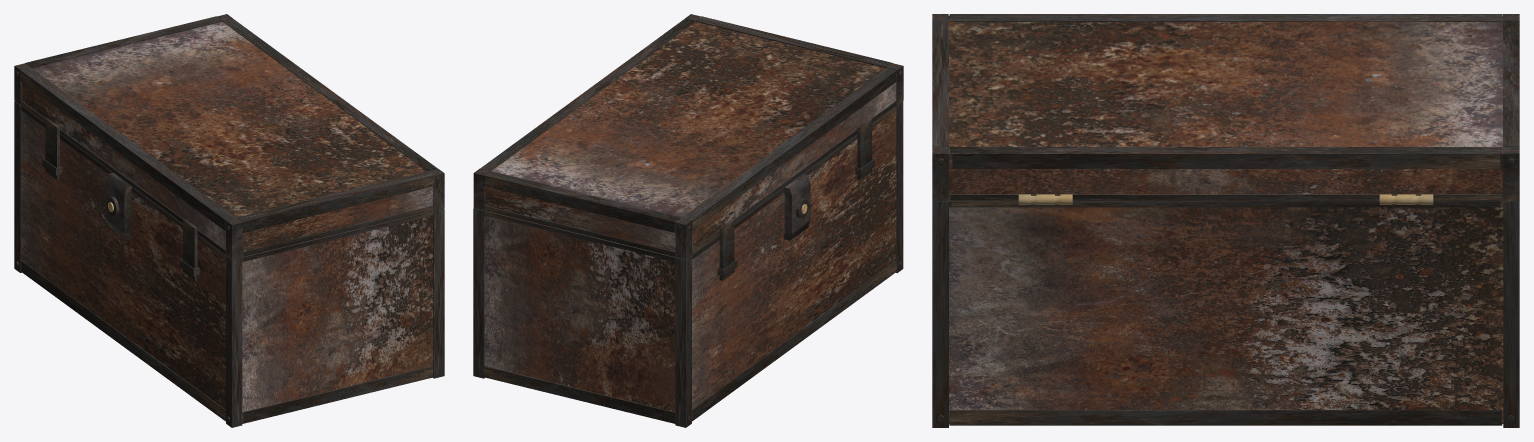
The model's file is Storage trunk.glb.
3 views of the same model, side by side, from view 1: azimuth 30°, elevation 25°; view 2: azimuth 150°, elevation 25°; view 3: azimuth 270°, elevation 25° (orthographic). The views are drawn at different scales.
Parts seen in each view (by area): view 1: Cube, Cube.001, Cube.004, Cube.006, Cube.013, Cube.003, Cube.008; view 2: Cube, Cube.001, Cube.004, Cube.006, Cube.013, Cube.003, Cube.008; view 3: Cube, Cube.001, Cube.004, Cube.006, Cube.002.
Part boxes in pixels (x1,y1,x2,y2): Cube: (21, 110, 433, 412); Cube.001: (21, 22, 433, 251); Cube.004: (14, 14, 444, 259); Cube.006: (14, 101, 444, 427); Cube.013: (105, 173, 132, 239); Cube.003: (45, 118, 59, 179); Cube.008: (183, 219, 197, 280); Cube: (484, 111, 896, 411); Cube.001: (484, 22, 896, 251); Cube.004: (473, 14, 903, 259); Cube.006: (473, 101, 903, 427); Cube.013: (783, 174, 810, 240); Cube.003: (719, 219, 734, 280); Cube.008: (857, 119, 871, 179); Cube: (948, 199, 1503, 423); Cube.001: (948, 15, 1502, 198); Cube.004: (932, 14, 1519, 200); Cube.006: (932, 68, 1519, 427); Cube.002: (1018, 194, 1433, 204).
Size of the model in its own units: 4.89 by 4.18 by 8.11.
5 materials, 5 textured.
